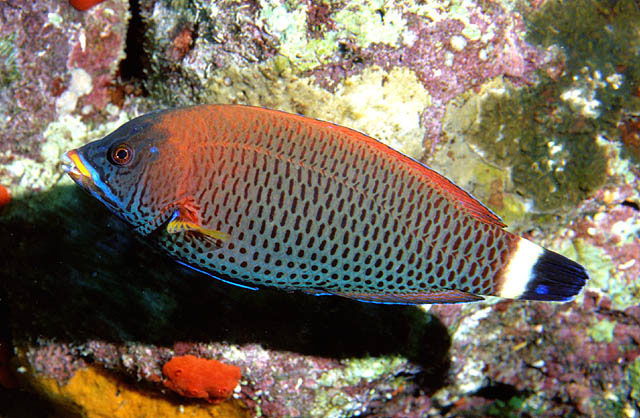fish: (62, 103, 590, 304)
